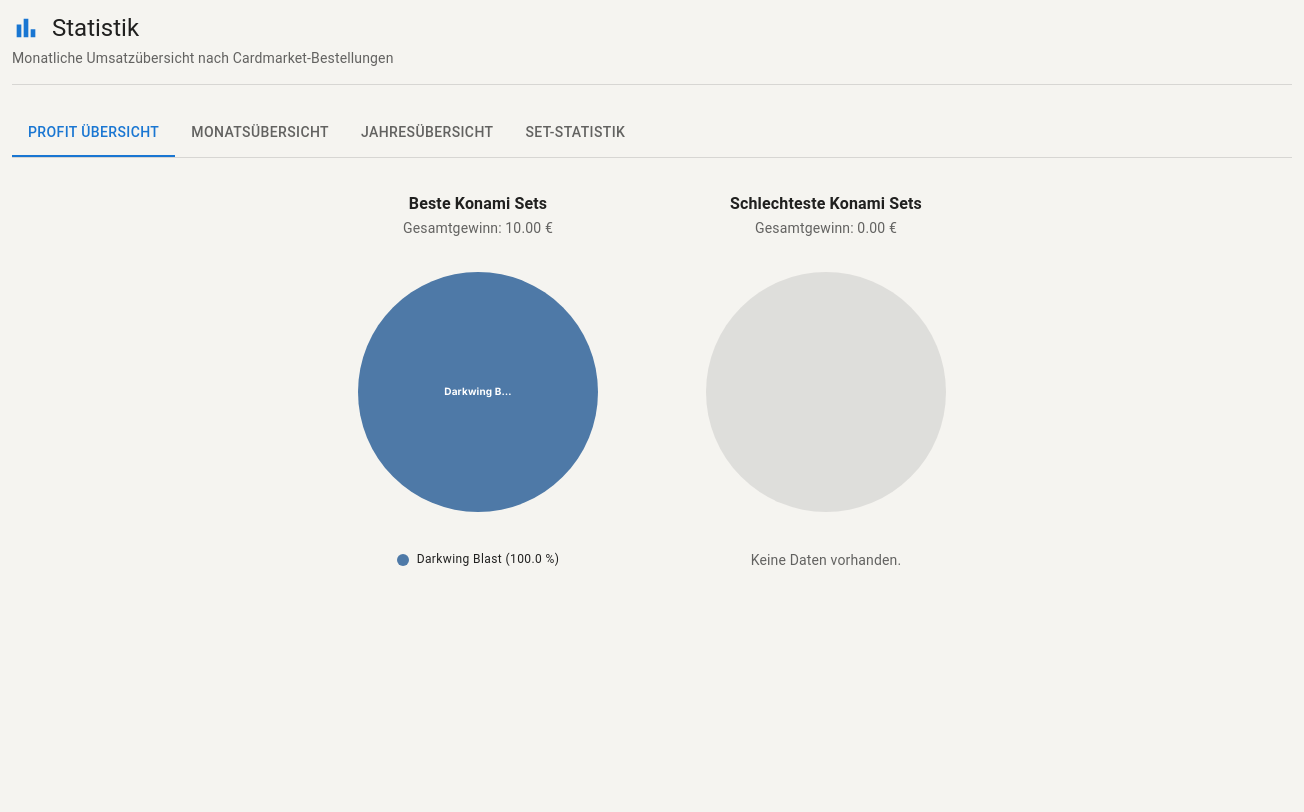
Statistik › Set-Statistik tab filter is case-insensitive
The image size is (1304, 812).
Click the tab "Set-Statistik".
click(575, 133)  # box [510,109,641,157]
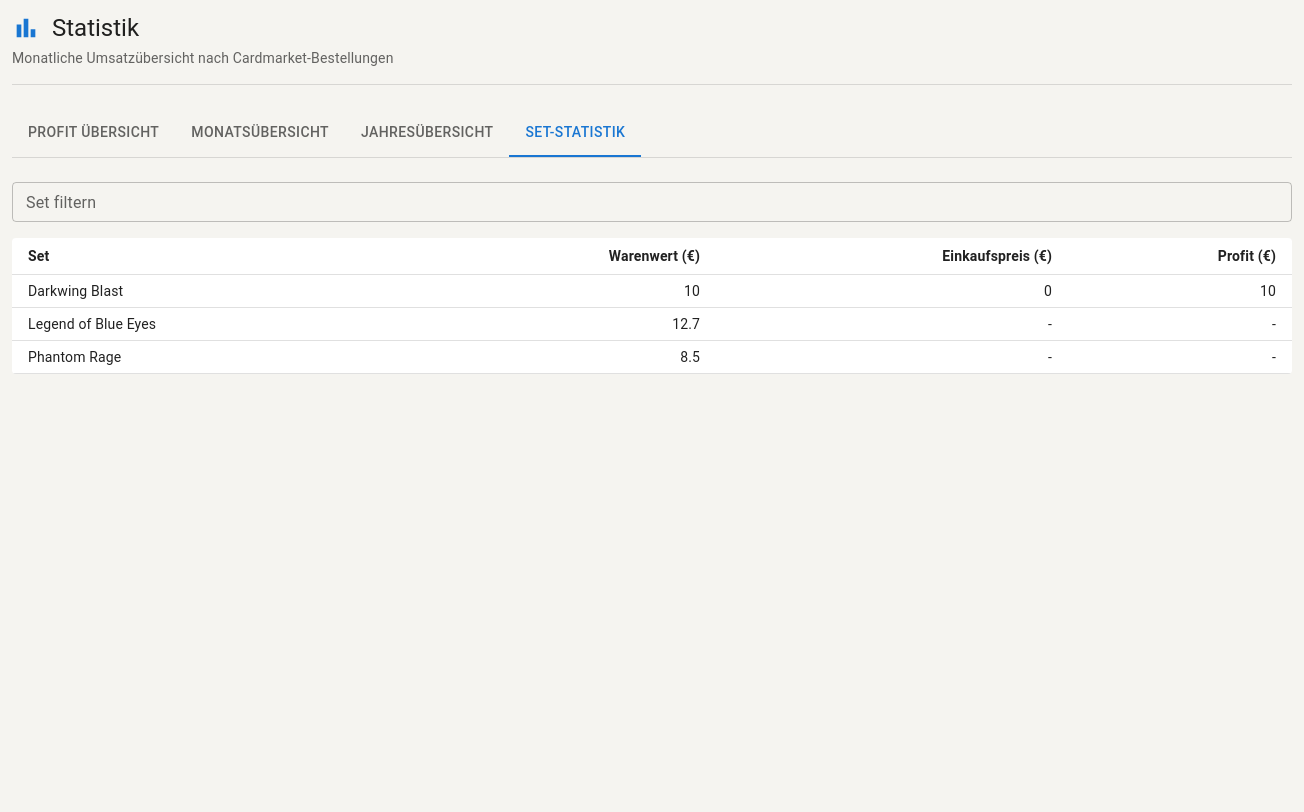
Type "phantom" into the field labelled "Set filtern".
click(652, 202); type("phantom")  # box [12,182,1292,222]
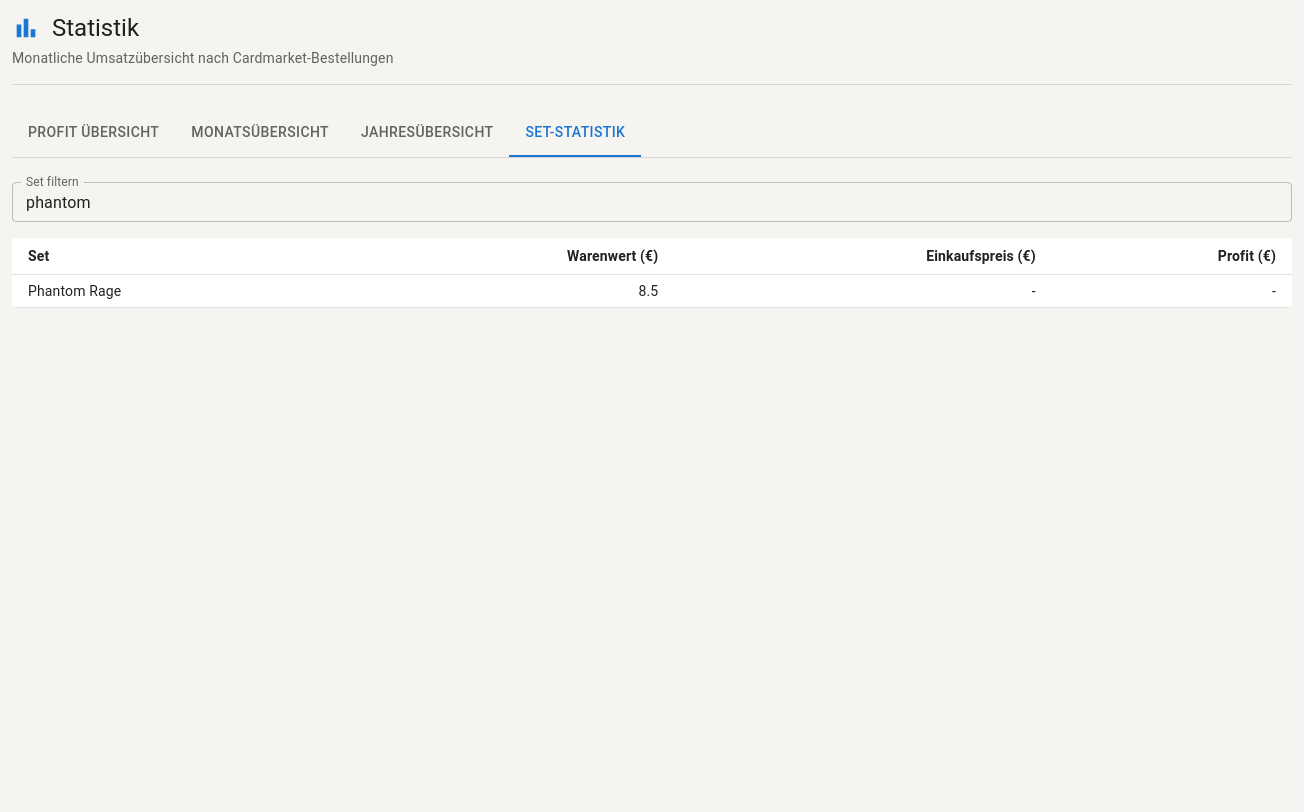
Now the text "Phantom Rage" is shown, box [12,274,346,308]
Now the text "Darkwing Blast" is gone
